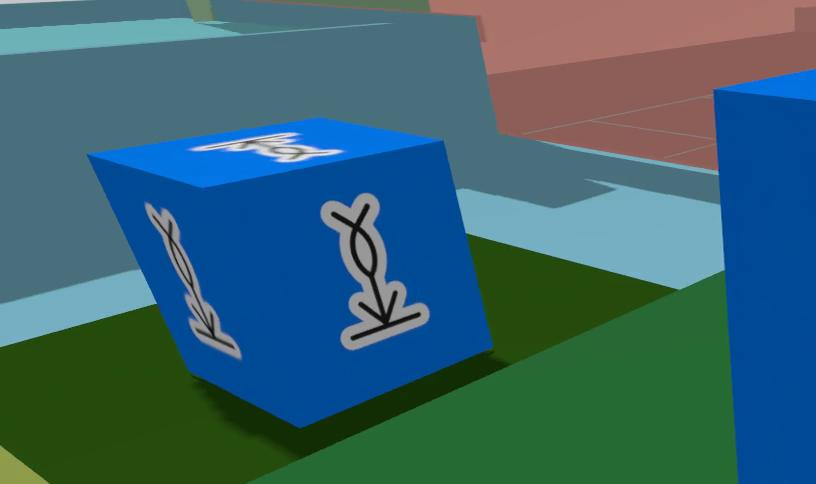KFS_REAL: (88, 119, 491, 426), (714, 68, 816, 484), (321, 193, 429, 349), (144, 203, 240, 360), (191, 132, 342, 162)
